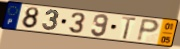3: (67, 12, 87, 34), (41, 9, 60, 32)
8: (20, 6, 39, 30)
9: (90, 13, 110, 38)
P: (135, 17, 161, 43)
T: (121, 16, 139, 41)
